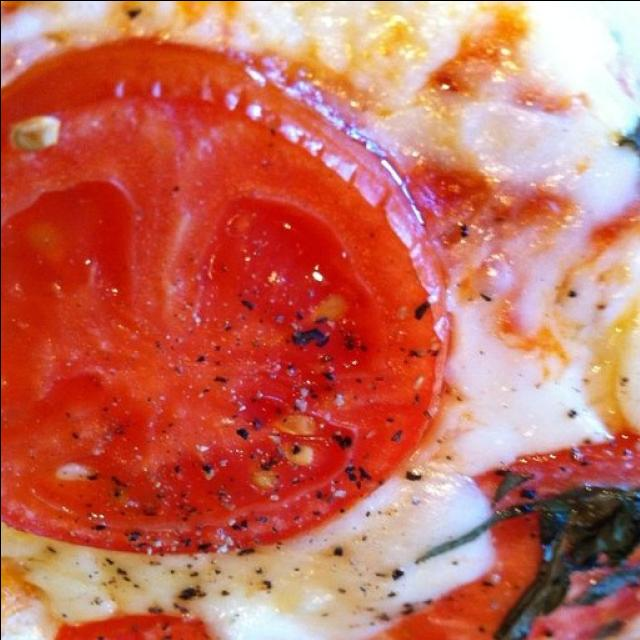basil: (0, 491, 154, 640)
pizza: (0, 0, 640, 640)
